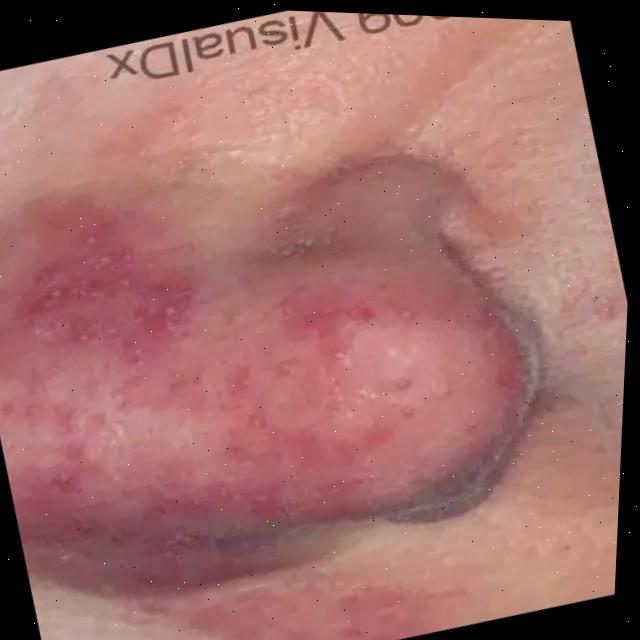Rosacea: (0, 126, 517, 598)
